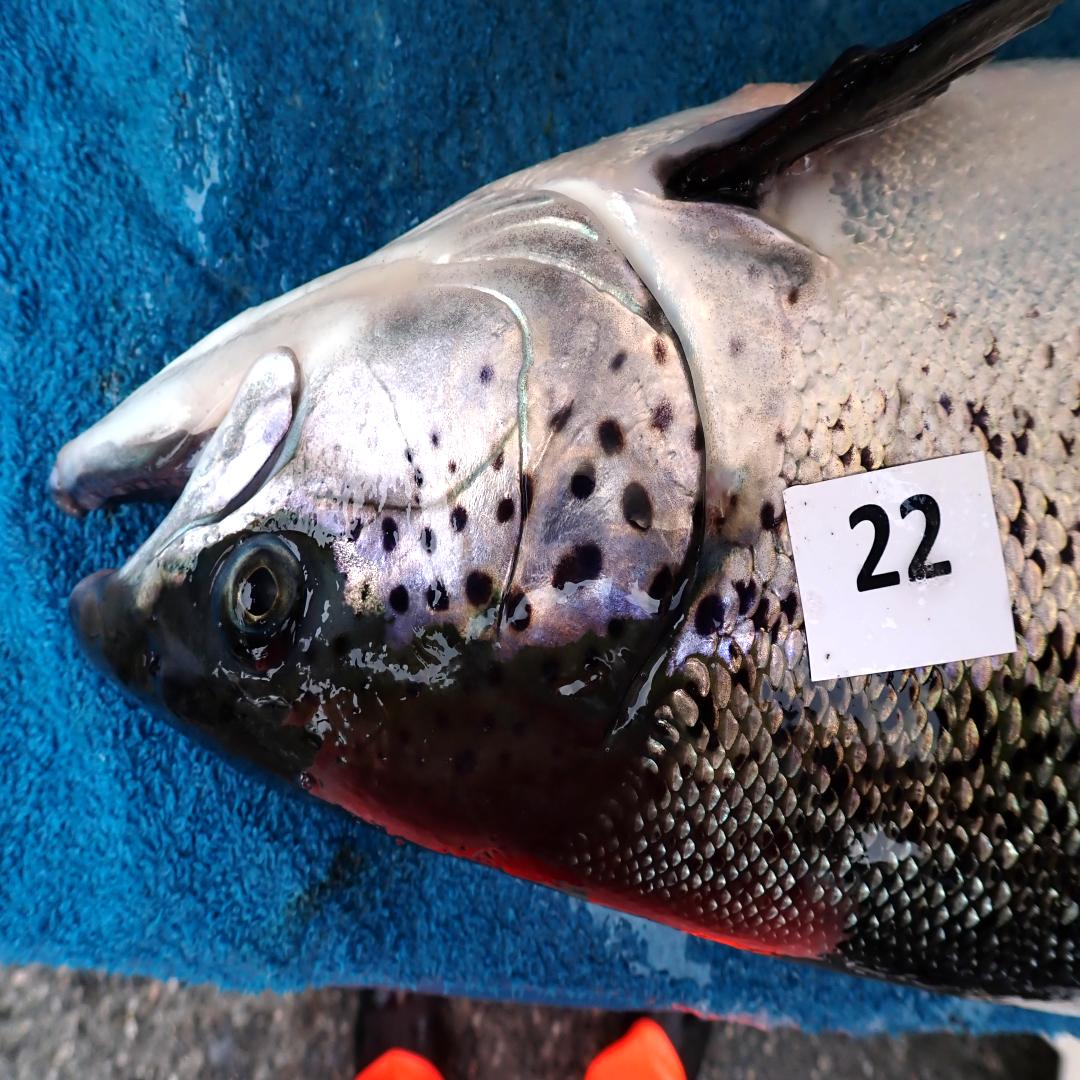roi: (304, 177, 708, 656)
